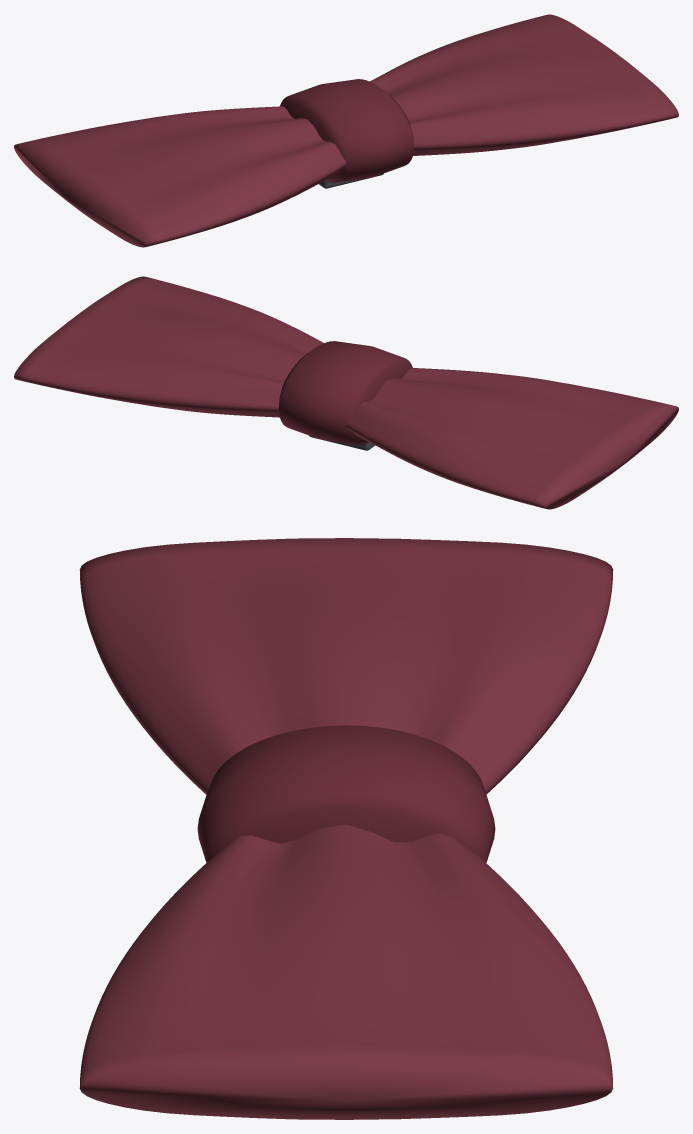
The picture shows the model from 3 angles, top to bottom: view 1: azimuth 30°, elevation 25°; view 2: azimuth 150°, elevation 25°; view 3: azimuth 270°, elevation 25°; orthographic projection. The views are drawn at different scales.
Parts seen in each view (by area): view 1: Whole original folded two-wing fabric bow, Central gathered fabric wrap; view 2: Whole original folded two-wing fabric bow, Central gathered fabric wrap; view 3: Whole original folded two-wing fabric bow, Central gathered fabric wrap.
Boxes of the visible parts, bbox=[...] form: Whole original folded two-wing fabric bow: bbox=[14, 14, 678, 247]; Central gathered fabric wrap: bbox=[280, 79, 413, 182]; Whole original folded two-wing fabric bow: bbox=[14, 276, 678, 509]; Central gathered fabric wrap: bbox=[279, 341, 412, 444]; Whole original folded two-wing fabric bow: bbox=[79, 538, 613, 1119]; Central gathered fabric wrap: bbox=[197, 725, 495, 862].
Bounding box in the file's own units: 0.128 × 0.0184 × 0.053.
